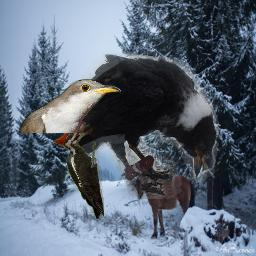Crow: (60, 53, 219, 199)
Cuckoo: (19, 79, 121, 133)
Woodpecker: (52, 124, 104, 219)
